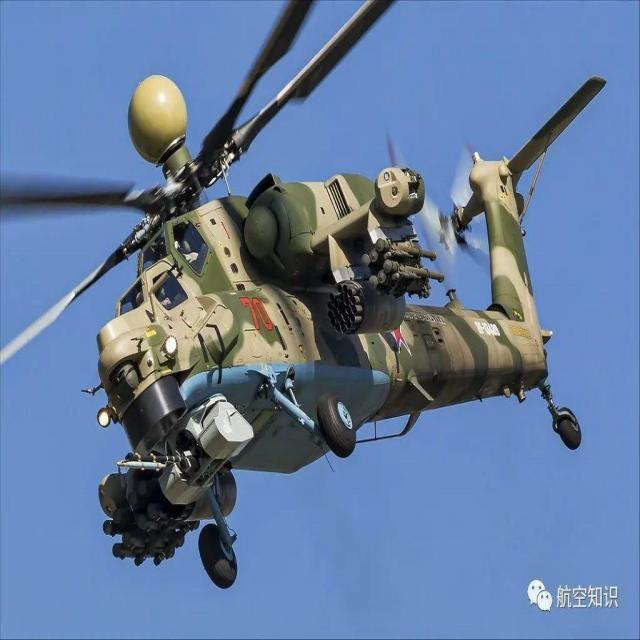MIL_HELO: (0, 0, 636, 588)
